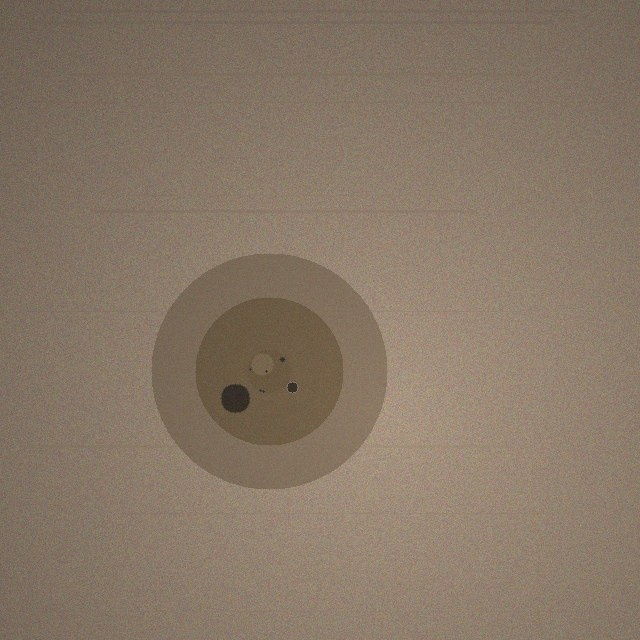shrinkage: (151, 253, 387, 489)
